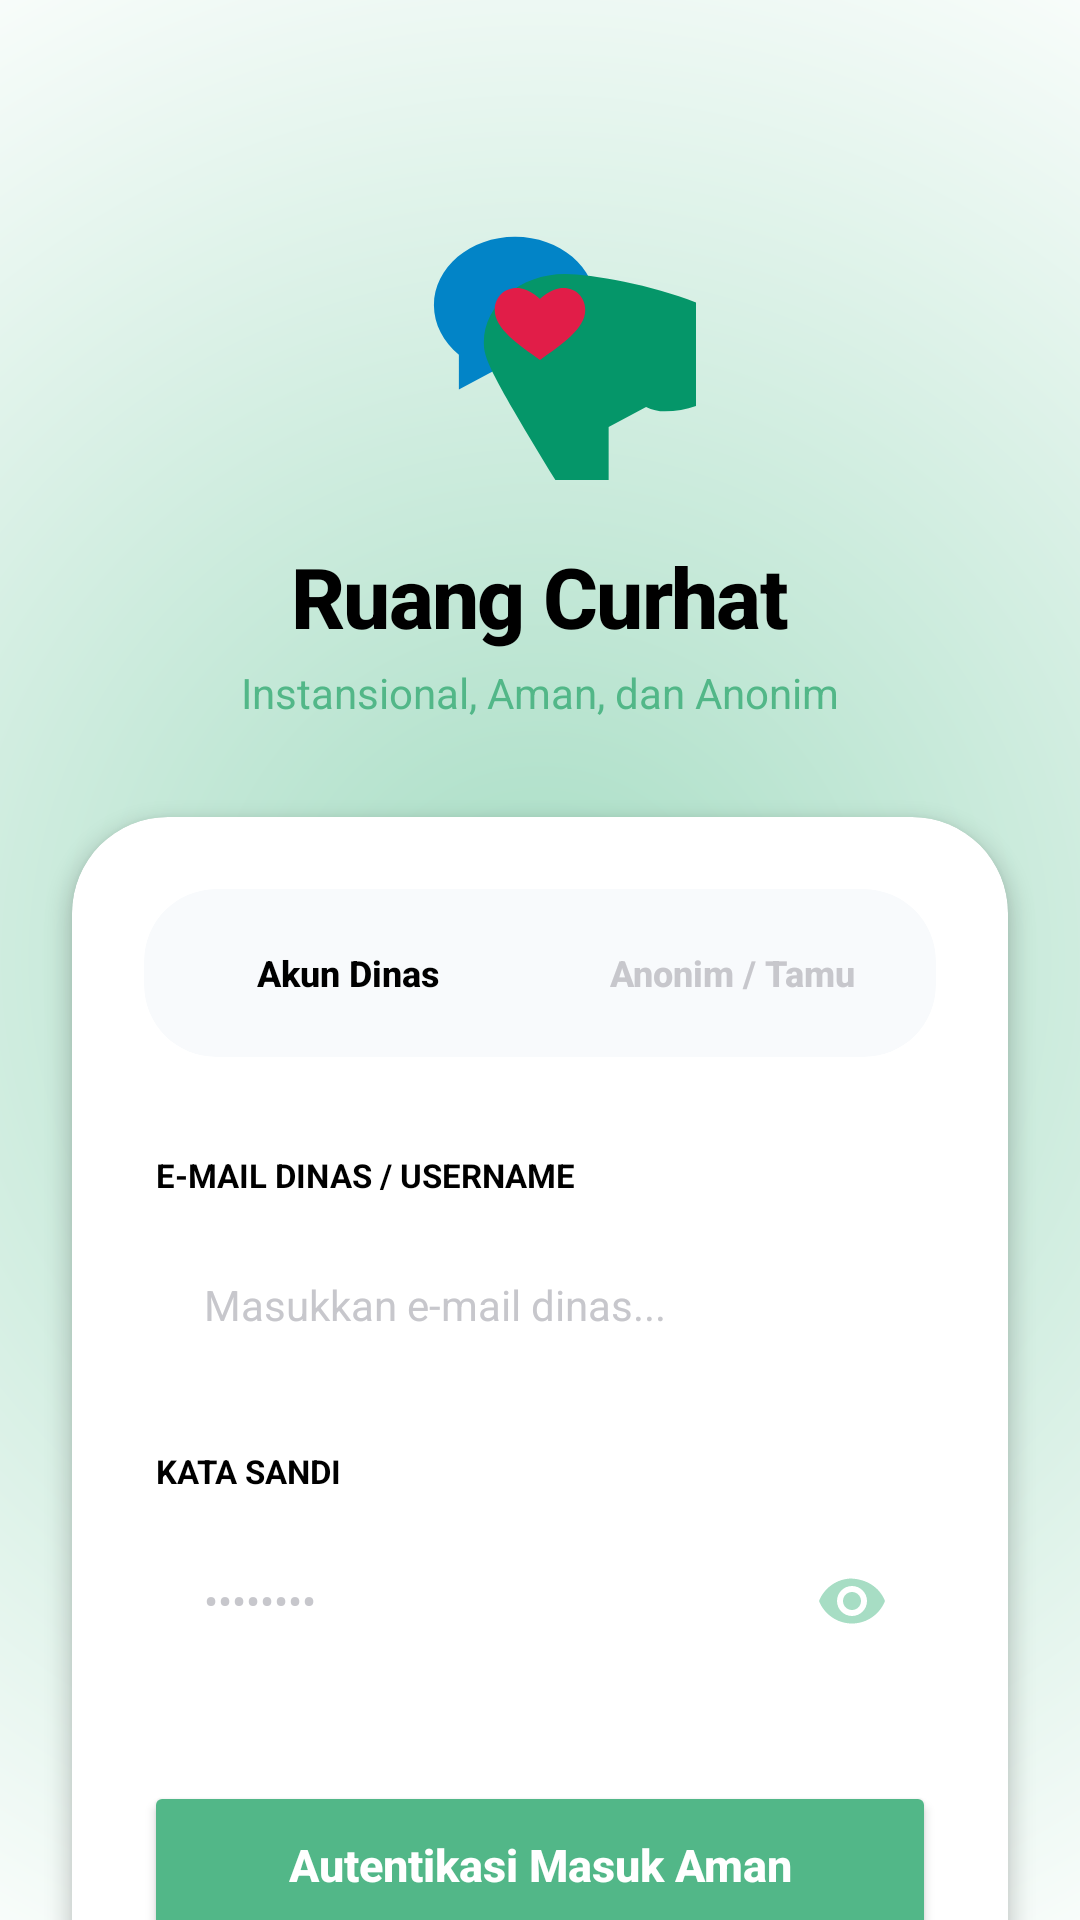

Icon click points for this 1080*1920 phone screenshot, format point (x, y):
Tampilkan Password: point (852, 1601)
